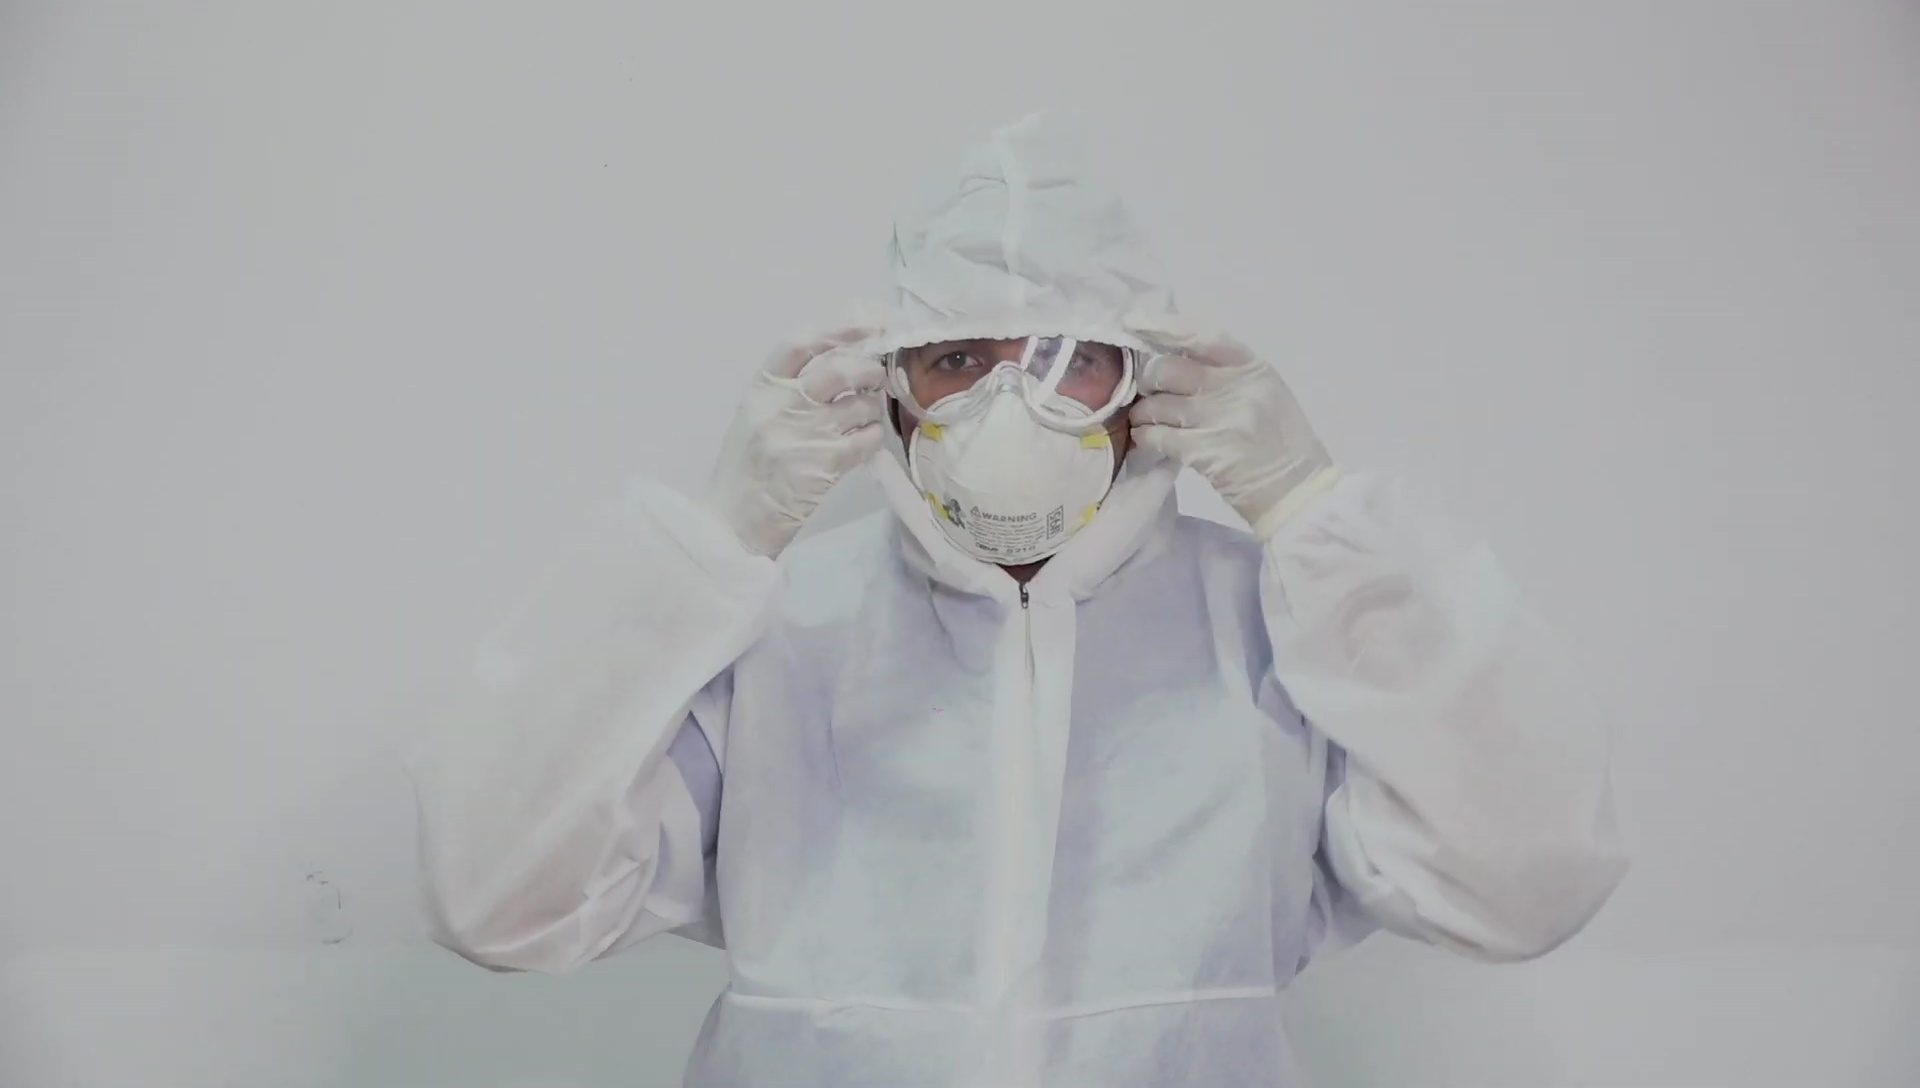Coverall: (416, 110, 1625, 1083)
Gloves: (702, 321, 889, 563), (1123, 312, 1334, 527)
Goggles: (884, 336, 1141, 439)
with_mask: (909, 364, 1117, 569)
